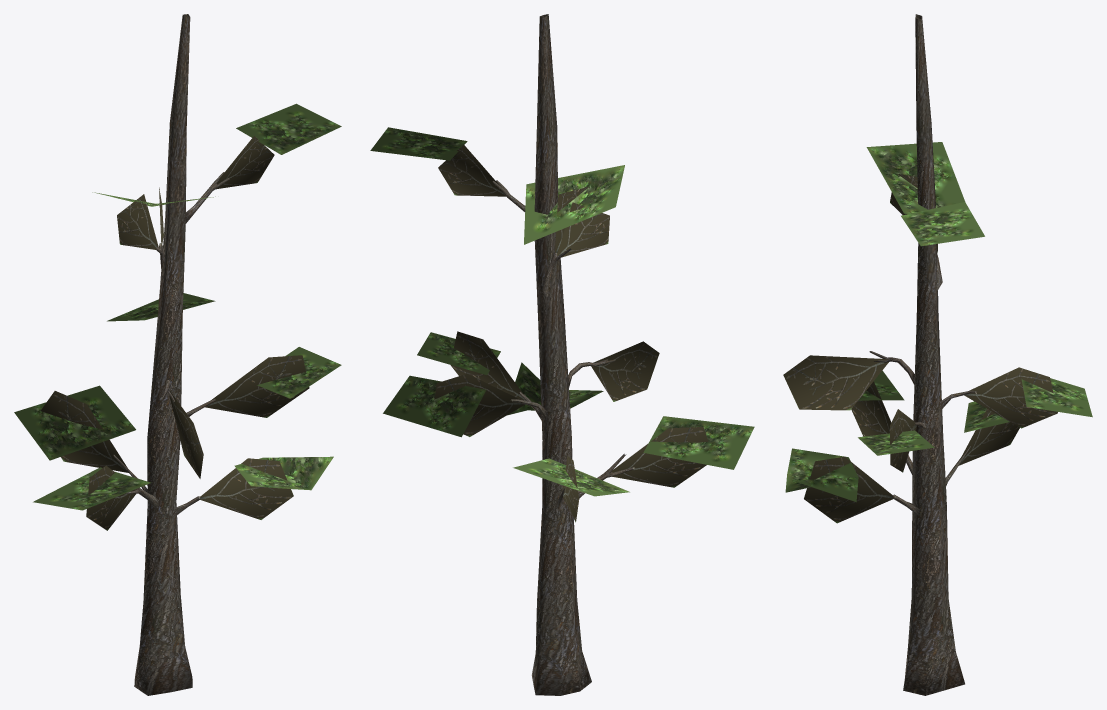
The model's file is Tree_ElephantEar1_lod1.fbx.
The picture shows the model from 3 angles, left to right: view 1: azimuth 30°, elevation 25°; view 2: azimuth 150°, elevation 25°; view 3: azimuth 270°, elevation 25°; orthographic projection. The views are drawn at different scales.
Parts seen in each view (by area): view 1: ElephantEar_leaves2_lod1, ElephantEar_trunk1_lod1, ElephantEar_leaves1_lod1, ElephantEar_trunk2_lod1; view 2: ElephantEar_leaves2_lod1, ElephantEar_trunk1_lod1, ElephantEar_leaves1_lod1, ElephantEar_trunk2_lod1; view 3: ElephantEar_leaves2_lod1, ElephantEar_trunk1_lod1, ElephantEar_leaves1_lod1, ElephantEar_trunk2_lod1.
Boxes of the visible parts, bbox=[...] form: ElephantEar_leaves2_lod1: bbox=[14, 103, 341, 530]; ElephantEar_trunk1_lod1: bbox=[134, 14, 192, 695]; ElephantEar_leaves1_lod1: bbox=[15, 105, 340, 530]; ElephantEar_trunk2_lod1: bbox=[113, 172, 229, 515]; ElephantEar_leaves2_lod1: bbox=[370, 127, 754, 522]; ElephantEar_trunk1_lod1: bbox=[531, 14, 591, 695]; ElephantEar_leaves1_lod1: bbox=[374, 128, 751, 520]; ElephantEar_trunk2_lod1: bbox=[492, 180, 634, 511]; ElephantEar_leaves2_lod1: bbox=[783, 142, 1092, 523]; ElephantEar_trunk1_lod1: bbox=[903, 14, 964, 695]; ElephantEar_leaves1_lod1: bbox=[785, 142, 1091, 522]; ElephantEar_trunk2_lod1: bbox=[869, 255, 977, 515].
Bounding box in the file's own units: 14.87 × 28.82 × 11.97.
